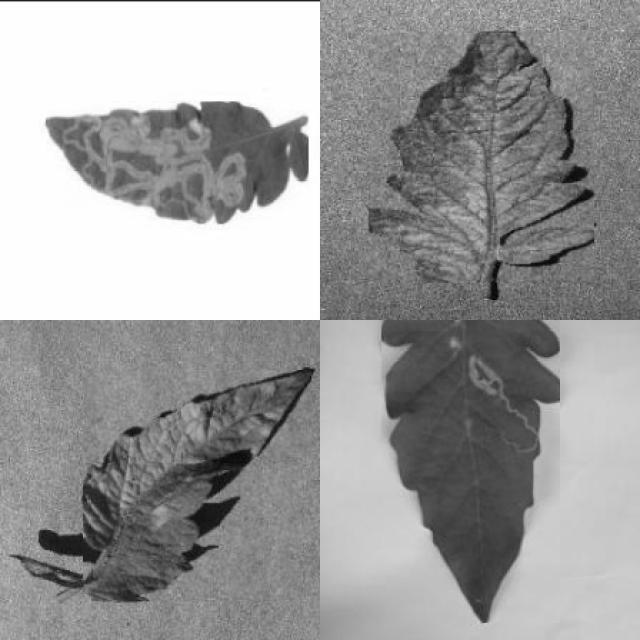Leaf Miner: (381, 320, 560, 623), (45, 102, 308, 225)
Leaf Mold: (82, 368, 312, 602)
Mosaic Virus: (368, 31, 595, 283)
